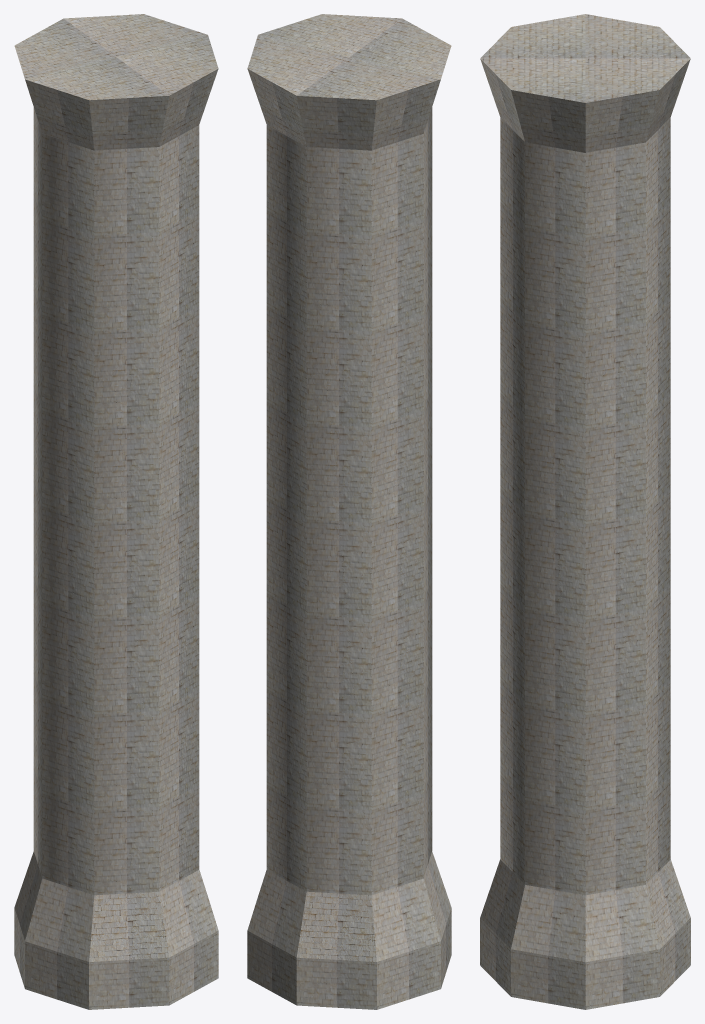
3 renders of one model, left to right at view 1: azimuth 30°, elevation 25°; view 2: azimuth 150°, elevation 25°; view 3: azimuth 270°, elevation 25°, orthographic.
Parts seen in each view (by area): view 1: TexturesCom_BrickMessy0175_2_M; view 2: TexturesCom_BrickMessy0175_2_M; view 3: TexturesCom_BrickMessy0175_2_M.
Boxes of the visible parts, x1,y1,x2,y2 form: TexturesCom_BrickMessy0175_2_M: (14, 14, 218, 1009); TexturesCom_BrickMessy0175_2_M: (247, 14, 451, 1009); TexturesCom_BrickMessy0175_2_M: (480, 14, 690, 1009).
Bounding box in the file's own units: 2 × 9.5 × 2.
Materials: 1 (1 with a texture image).
